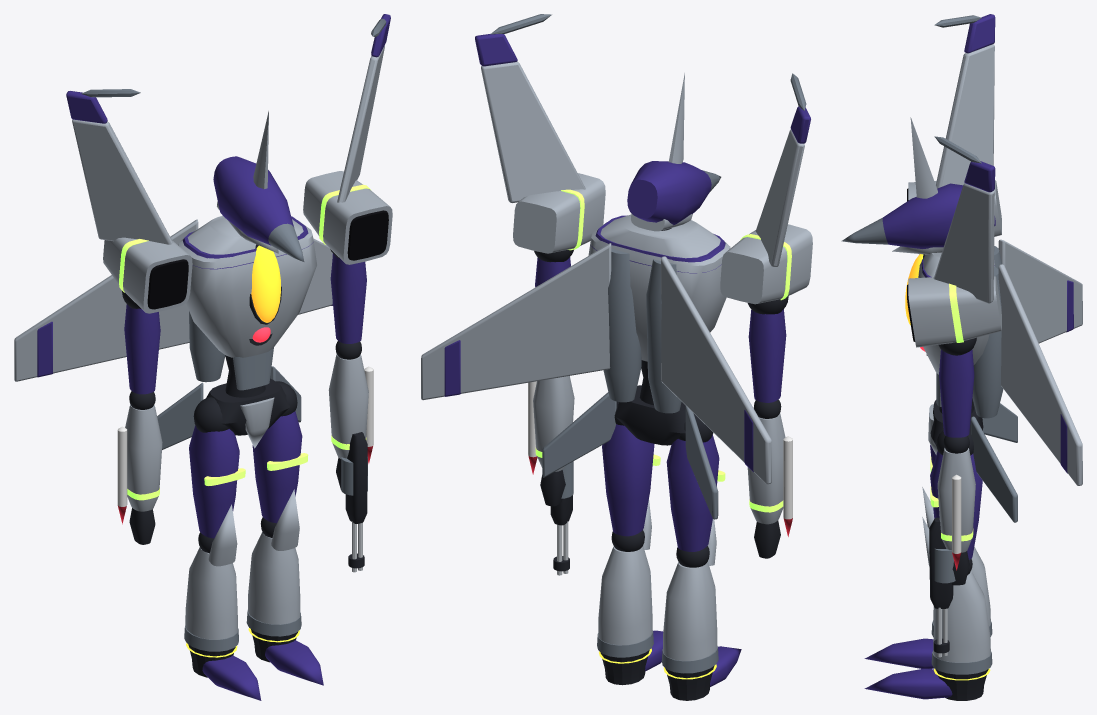
Rendered from robot.glb.
The picture shows the model from 3 angles, left to right: view 1: azimuth 30°, elevation 25°; view 2: azimuth 150°, elevation 25°; view 3: azimuth 270°, elevation 25°; orthographic projection. The views are drawn at different scales.
Visible parts, largest first — view 1: chest, wing, tail, skull, thigh, intake.001, calf, calf.001, thigh.001, intake, forearm, forearm.001 (+29 smaller); view 2: wing.001, wing, tail.001, chest, intake.001, intake, calf, calf.001, thigh.001, skull, engine.001, thigh (+20 smaller); view 3: wing.001, tail, tail.001, intake.001, wing, skull, calf.001, upper_arm.001, forearm.001, engine.001, stabilator.001, foot.001 (+21 smaller).
Part boxes in pixels (left/top/right/bottom): chest: left=178, top=215, right=316, bottom=357; wing: left=14, top=219, right=198, bottom=381; tail: left=72, top=119, right=172, bottom=244; skull: left=213, top=156, right=293, bottom=245; thigh: left=189, top=425, right=239, bottom=538; intake.001: left=303, top=171, right=392, bottom=264; calf: left=185, top=547, right=237, bottom=639; calf.001: left=248, top=532, right=300, bottom=624; thigh.001: left=252, top=411, right=302, bottom=523; intake: left=103, top=237, right=192, bottom=313; forearm: left=125, top=404, right=162, bottom=511; forearm.001: left=328, top=354, right=368, bottom=458; wing.001: left=421, top=243, right=611, bottom=400; wing: left=661, top=256, right=771, bottom=484; tail.001: left=481, top=61, right=585, bottom=203; chest: left=588, top=214, right=730, bottom=361; intake.001: left=513, top=173, right=605, bottom=253; intake: left=720, top=224, right=812, bottom=304; calf: left=663, top=561, right=717, bottom=661; calf.001: left=598, top=546, right=652, bottom=645; thigh.001: left=602, top=424, right=654, bottom=536; skull: left=627, top=161, right=711, bottom=225; engine.001: left=603, top=249, right=641, bottom=402; thigh: left=666, top=435, right=719, bottom=551; wing.001: left=998, top=264, right=1082, bottom=485; tail: left=936, top=44, right=994, bottom=188; tail.001: left=933, top=183, right=994, bottom=303; intake.001: left=908, top=276, right=1001, bottom=347; wing: left=998, top=239, right=1082, bottom=343; skull: left=882, top=183, right=995, bottom=248; calf.001: left=933, top=570, right=990, bottom=662; upper_arm.001: left=939, top=349, right=974, bottom=437; forearm.001: left=937, top=448, right=975, bottom=552; engine.001: left=972, top=267, right=1003, bottom=418; stabilator.001: left=971, top=416, right=1017, bottom=522; foot.001: left=864, top=668, right=952, bottom=699.
Size of the model in its own units: 2.16 by 3.73 by 1.36.
